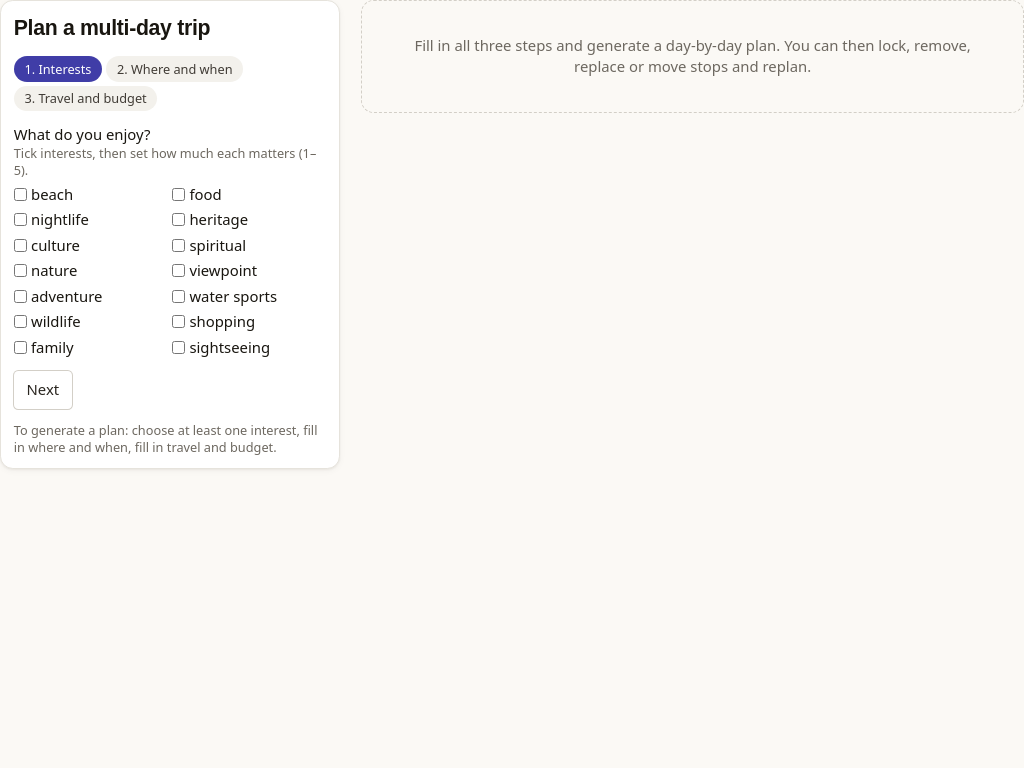
Scenario: shows infeasible-plan conflicts and relaxations
Click the checkbox labelled "heritage" at (179, 220), box top-left (172, 213), bottom-right (185, 226)
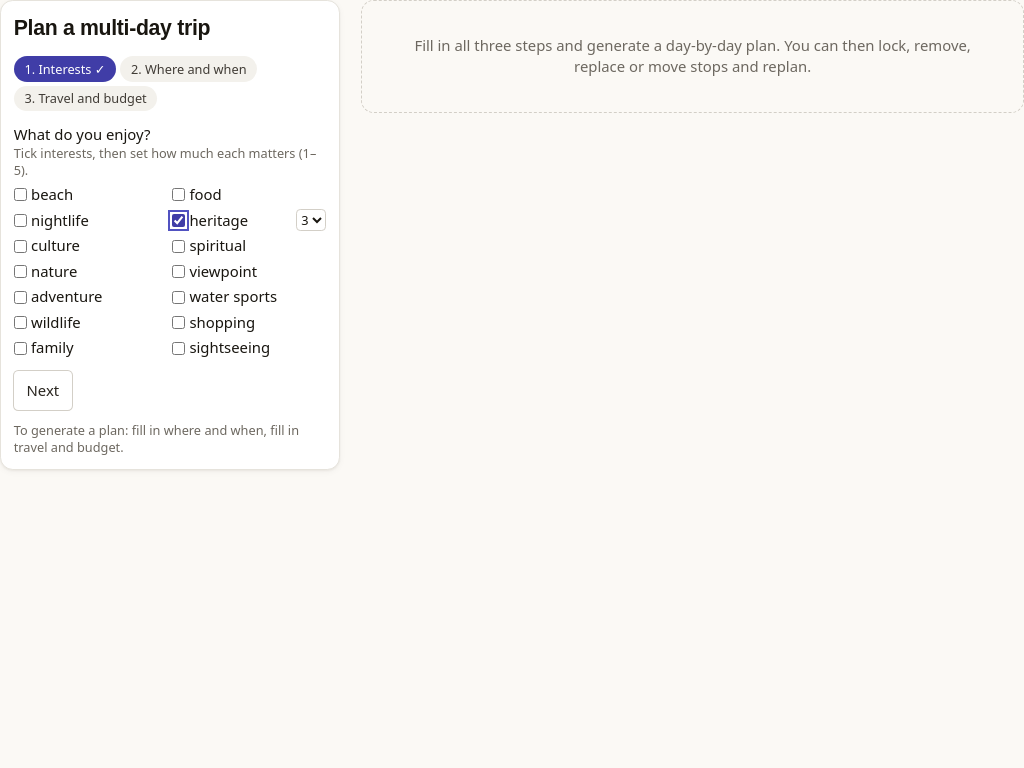
Click the button "Next" at (43, 391), box top-left (14, 371), bottom-right (72, 410)
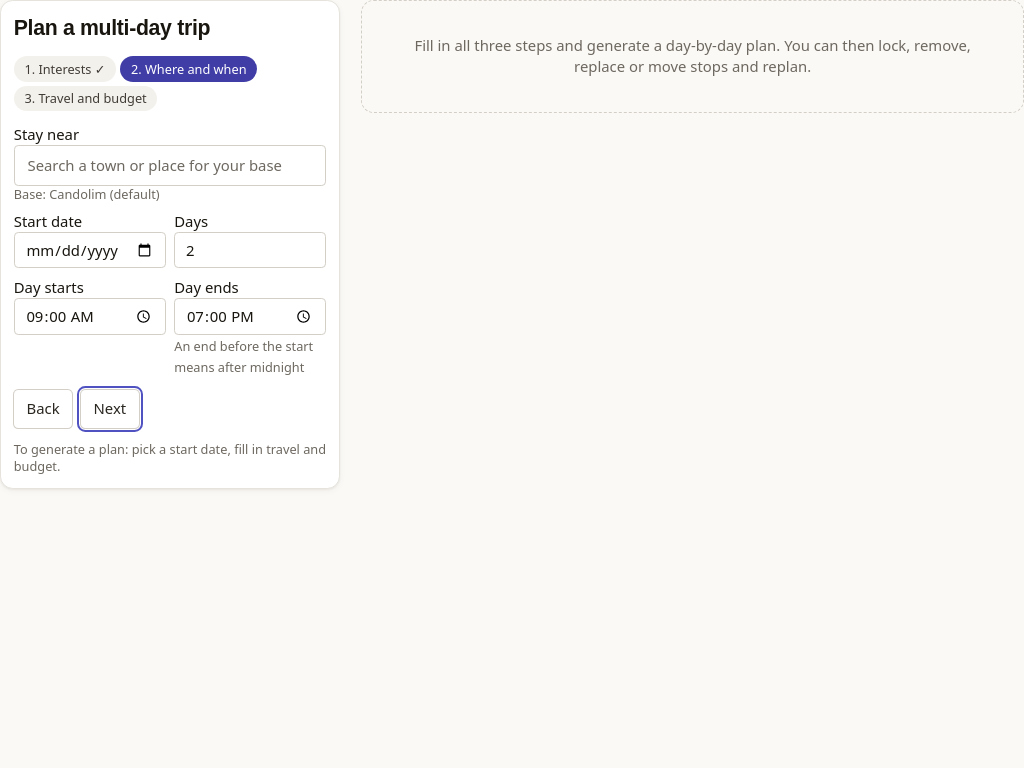
Type "2026-12-14" into the date field labelled "Start date" at (90, 250), box top-left (14, 232), bottom-right (166, 268)
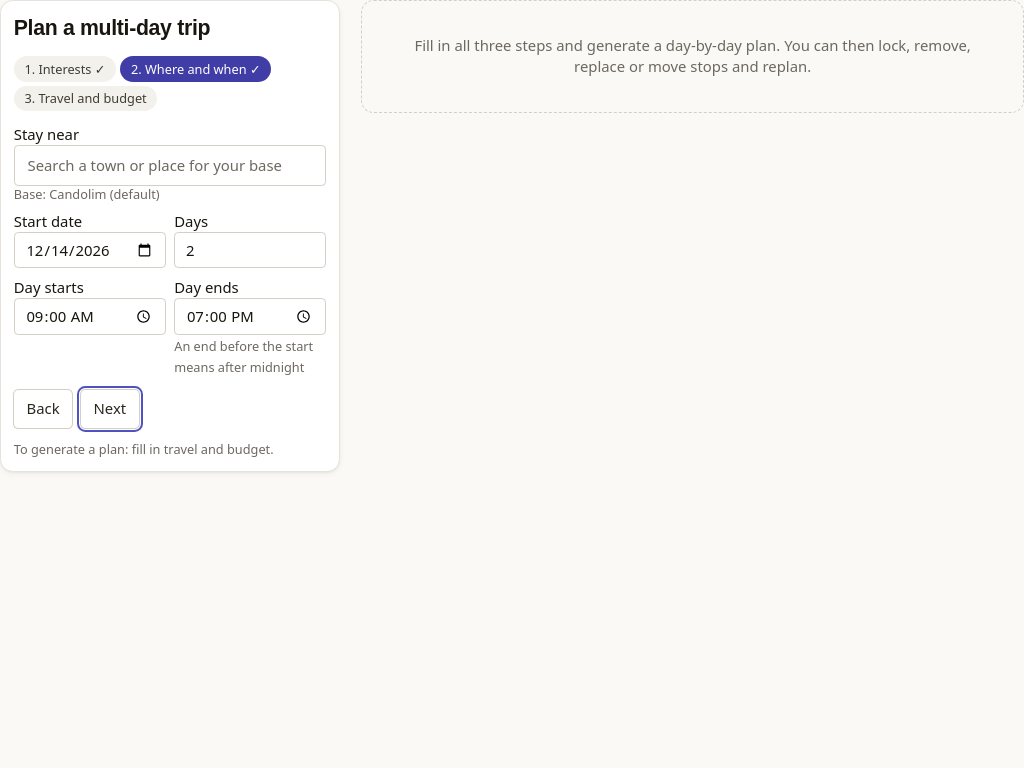
Click the button "Next" at (110, 409), box top-left (81, 390), bottom-right (139, 428)
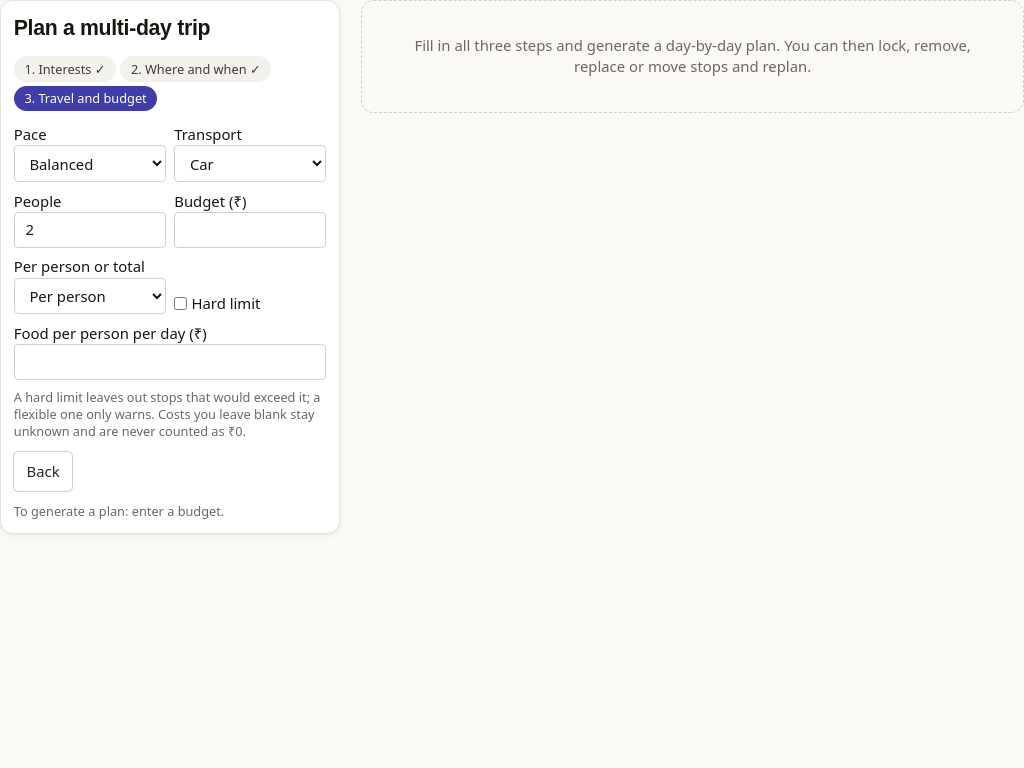
Type "5000" into the number field labelled "Budget (₹)" at (250, 230), box top-left (174, 212), bottom-right (326, 248)
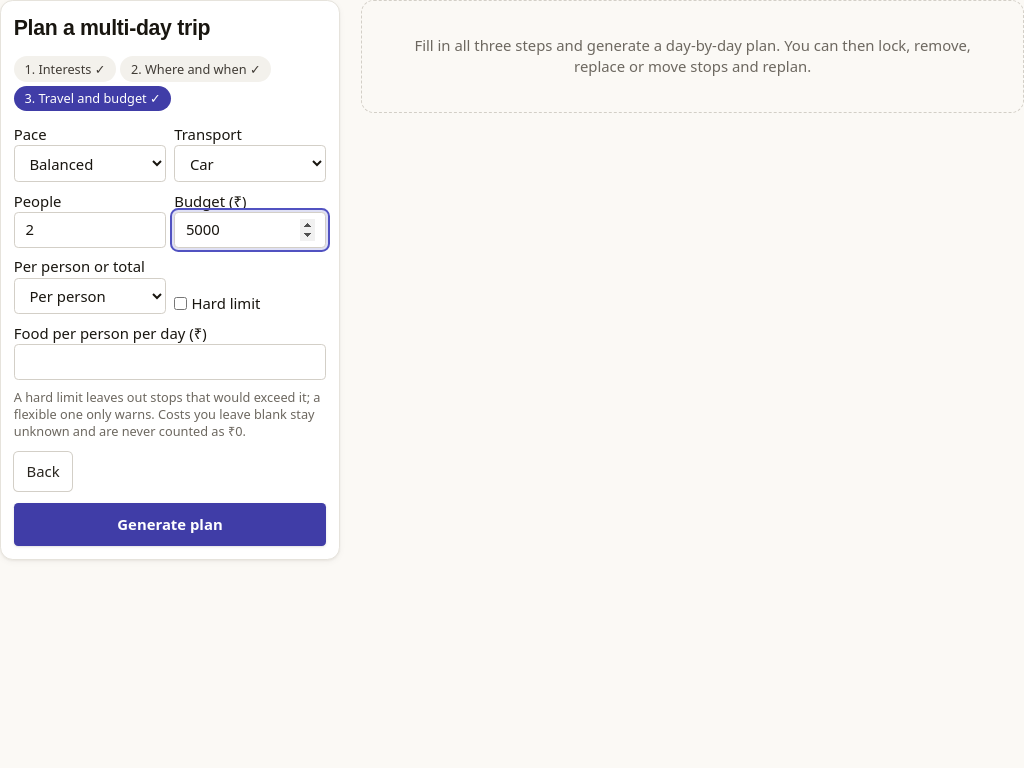
Click the button "Generate plan" at (170, 525), box top-left (14, 503), bottom-right (326, 546)
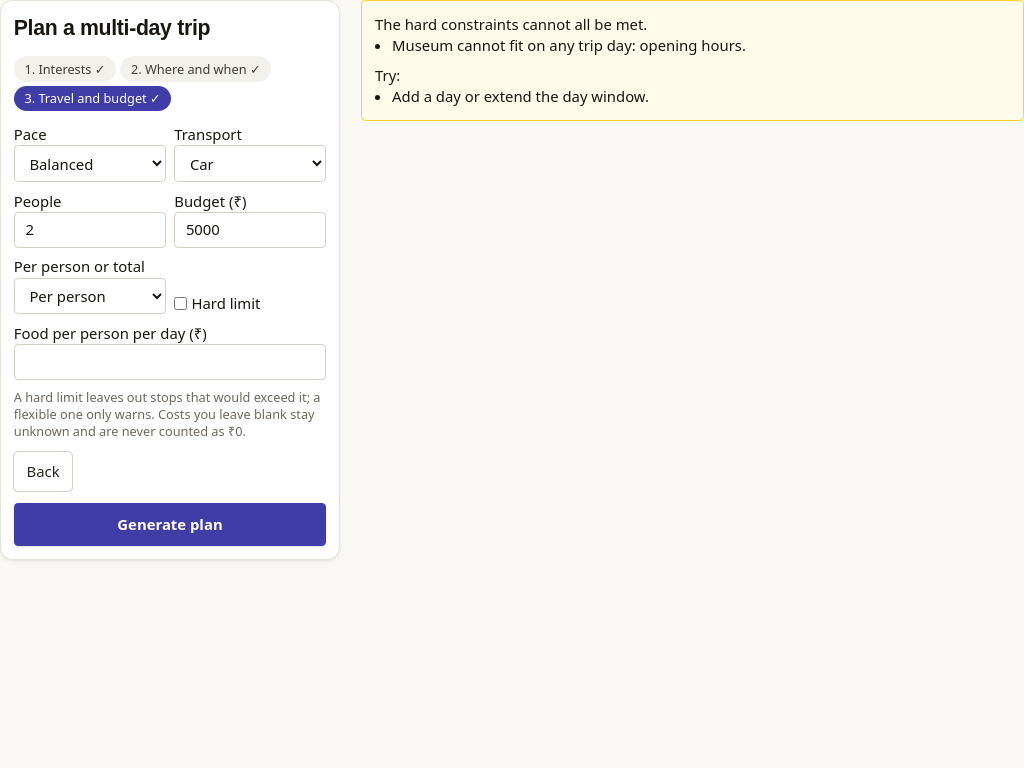
Check: the list item "Museum cannot fit on any trip day: opening hours." is shown, box top-left (392, 35), bottom-right (746, 55)
Check: the list item "Add a day or extend the day window." is shown, box top-left (392, 86), bottom-right (649, 106)
